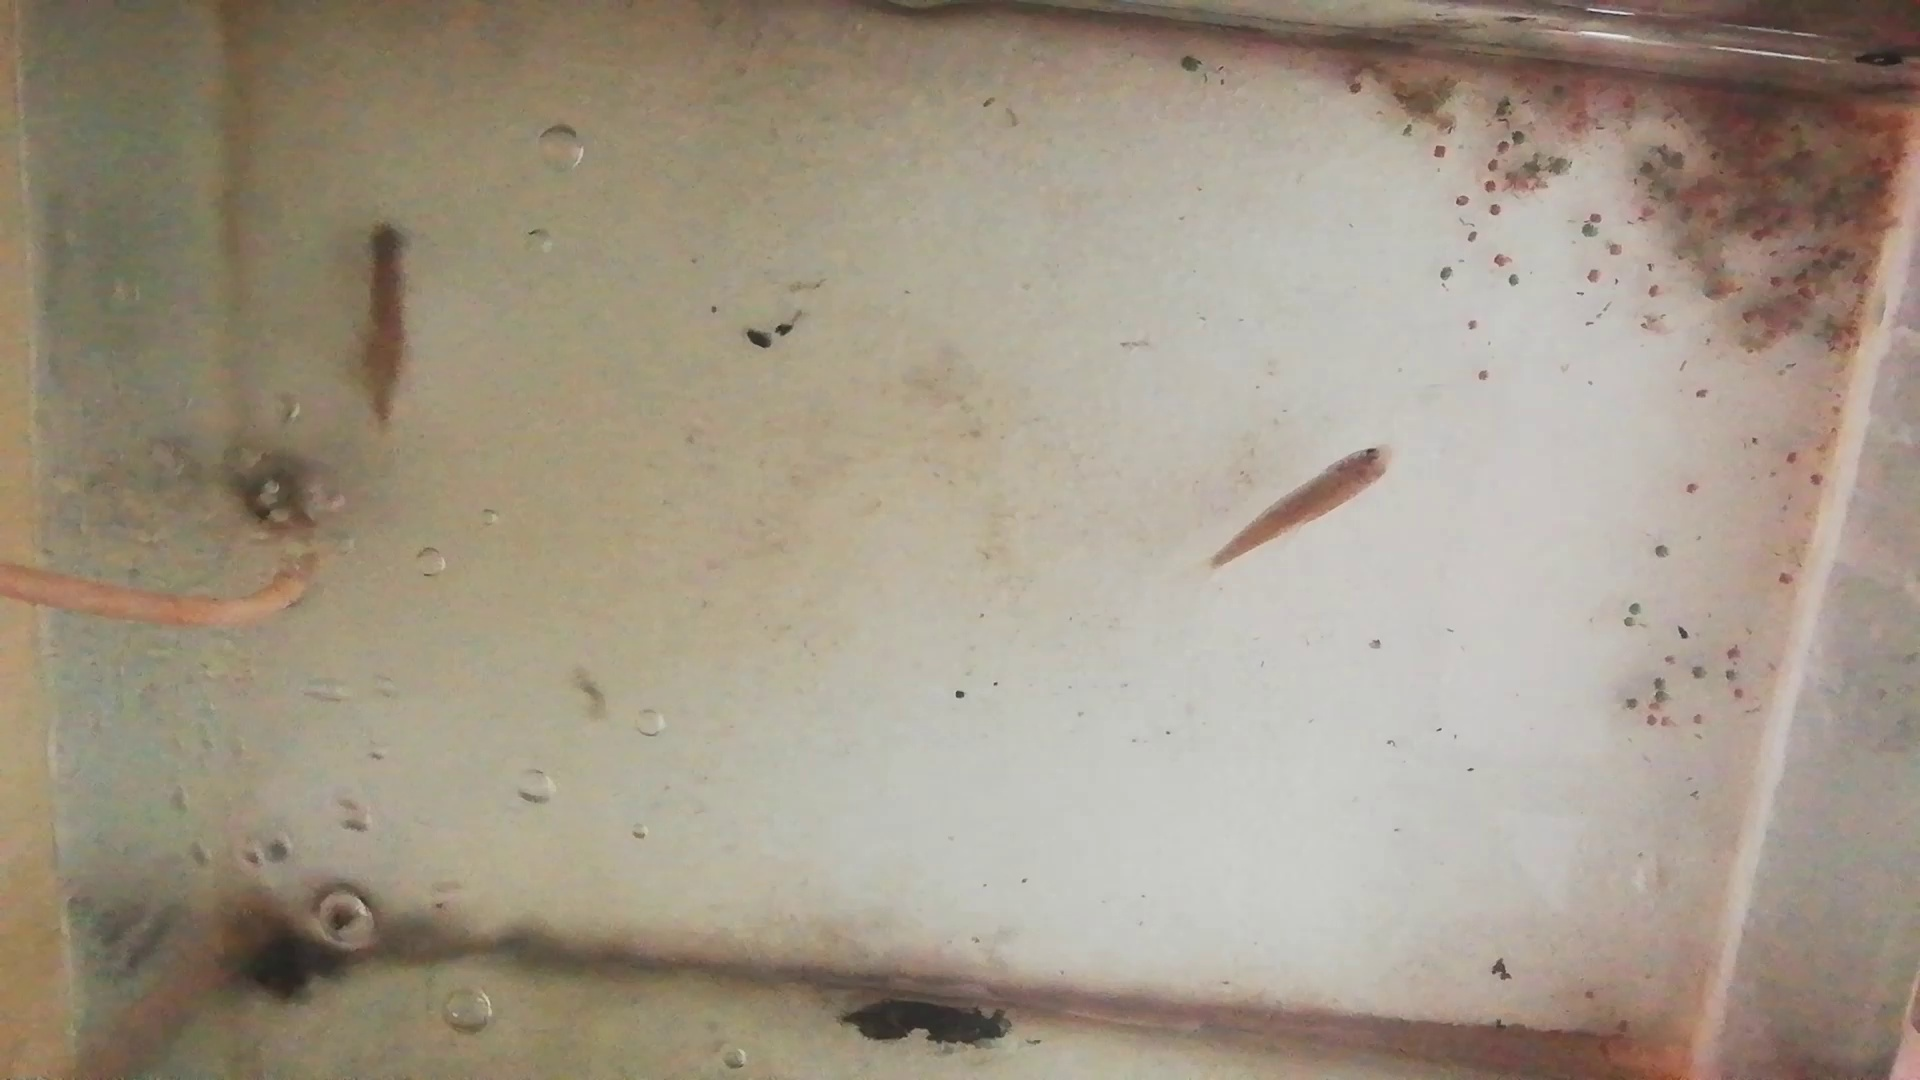fish: (1209, 440, 1393, 574), (360, 224, 411, 436)
